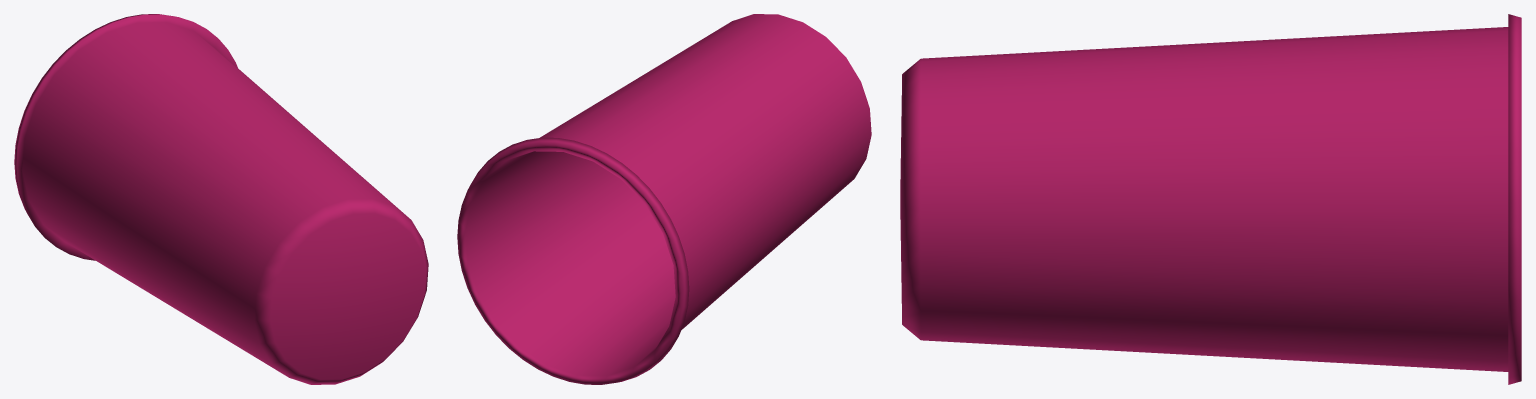
Rendered from SM_Dishes_18.fbx.
The picture shows the model from 3 angles, left to right: view 1: azimuth 30°, elevation 25°; view 2: azimuth 150°, elevation 25°; view 3: azimuth 270°, elevation 25°; orthographic projection. The views are drawn at different scales.
Parts seen in each view (by area): view 1: SM_Dishes_18; view 2: SM_Dishes_18; view 3: SM_Dishes_18.
Part boxes in pixels (x1,y1,x2,y2): SM_Dishes_18: [14, 14, 428, 384]; SM_Dishes_18: [457, 14, 871, 384]; SM_Dishes_18: [900, 14, 1521, 384].
Bounding box in the file's own units: 9.88 × 9.88 × 16.55.
